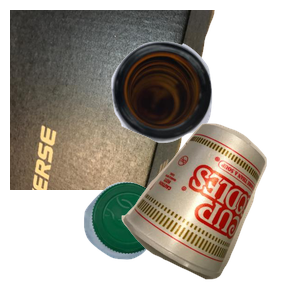cardboard: (10, 10, 217, 190)
glass: (109, 39, 300, 175)
plastic: (81, 179, 239, 300)
trash: (119, 121, 300, 300)
